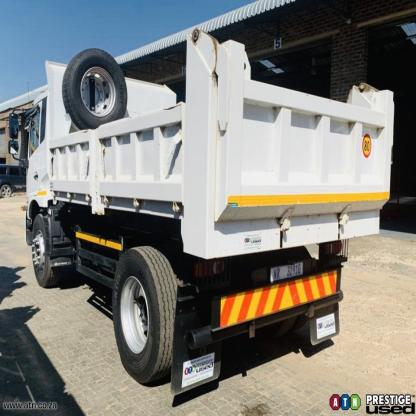dump_truck: (7, 50, 399, 395)
